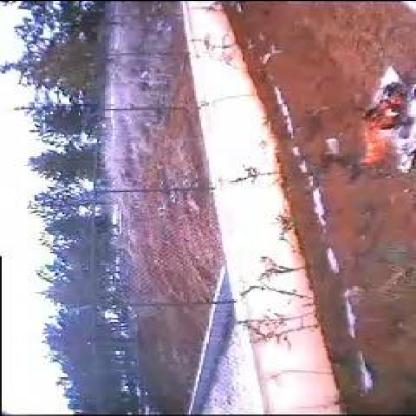foggia-v2-map80-epoch100 - v1 4323: (365, 92, 403, 164)
